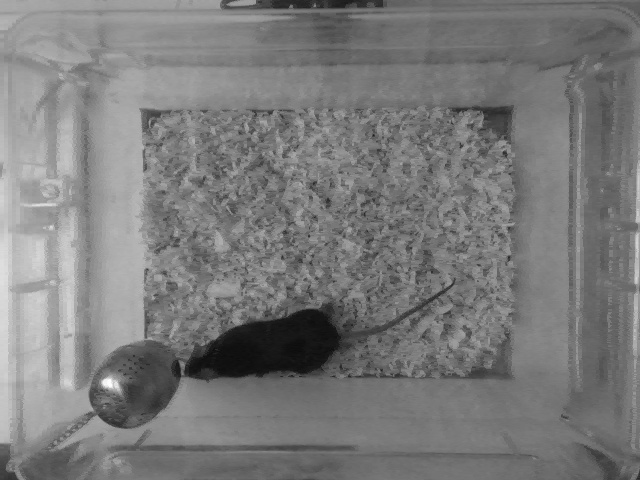mice: (183, 271, 464, 387)
